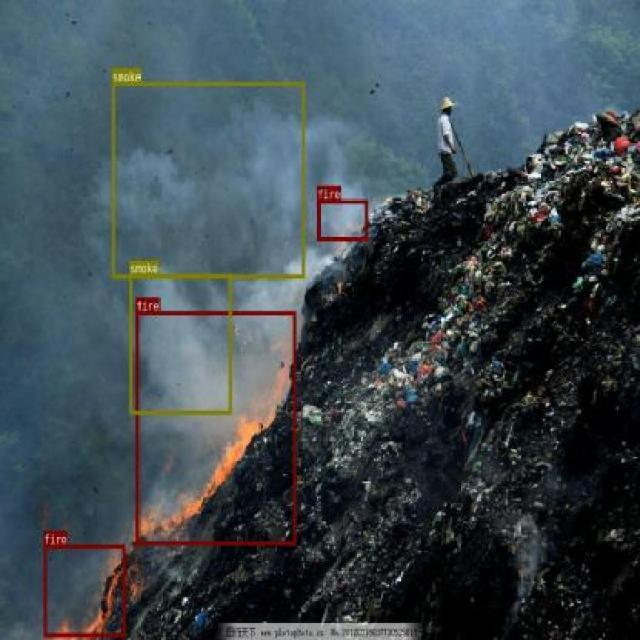fire: (136, 310, 296, 544), (43, 544, 125, 636), (317, 199, 368, 239)
smoke: (111, 81, 304, 277), (129, 273, 231, 415)
